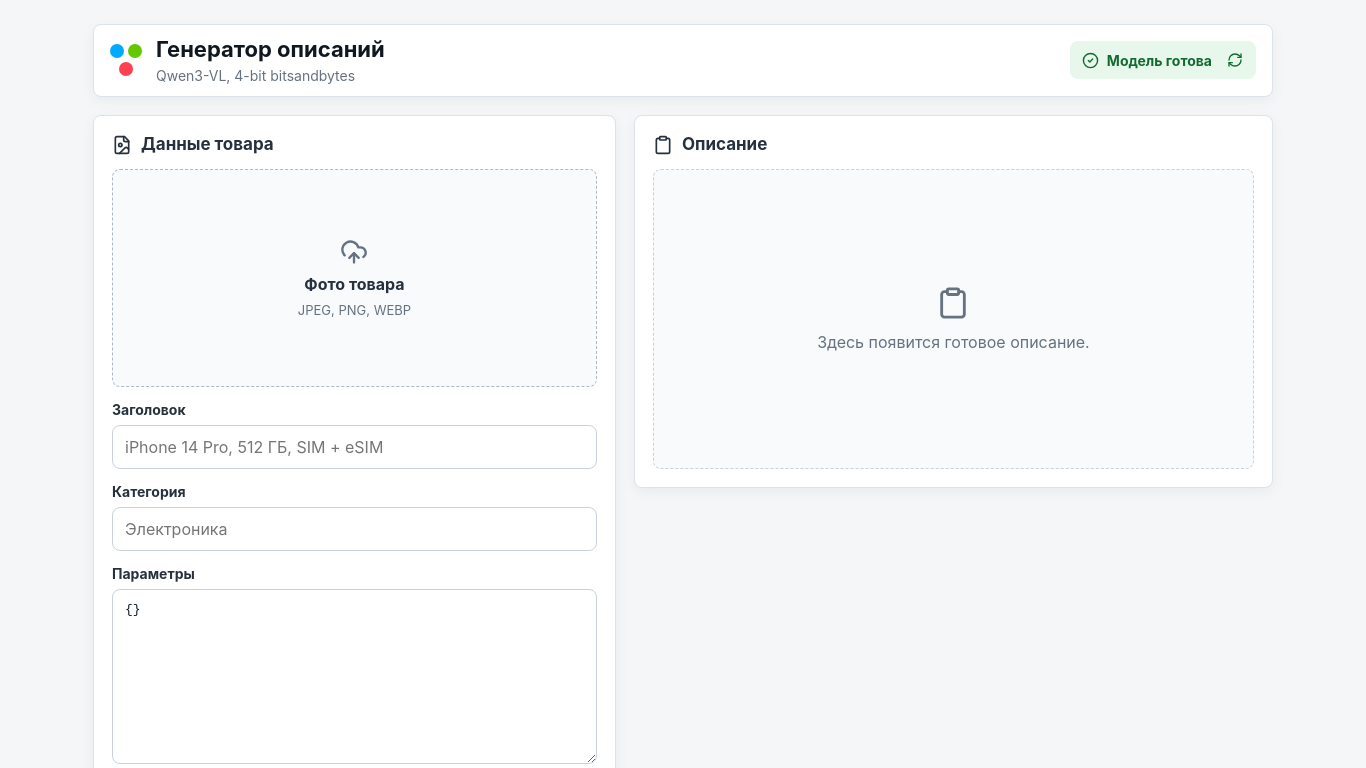
Test: App › shows JSON validation error
Expected: the text "Модель готова" is shown, [1107, 52, 1212, 69]
Replace the text in the text box labelled "Параметры" with "[1,2]". click: [354, 677]
box: [112, 589, 597, 764]
(page scrolled)
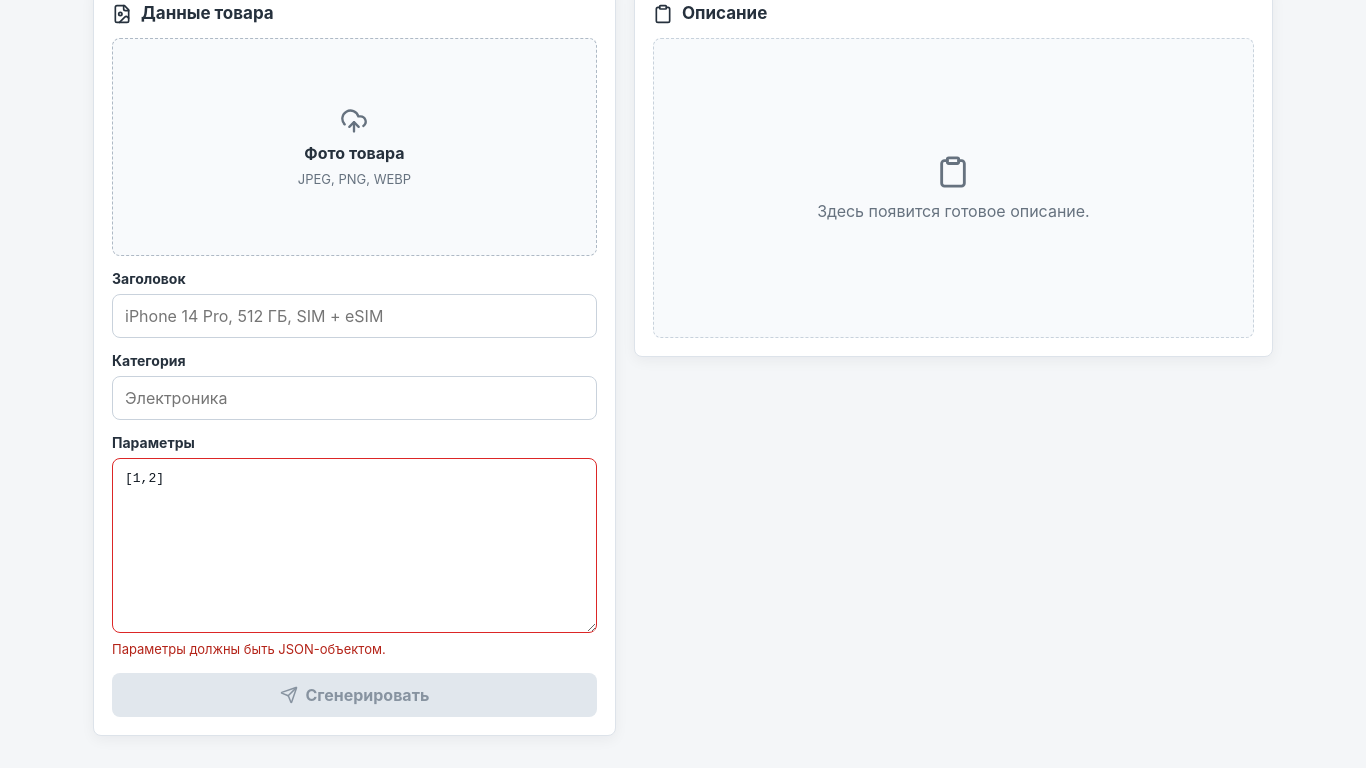
Expected: the text "Параметры должны быть JSON-объектом." is shown, [112, 641, 386, 657]
